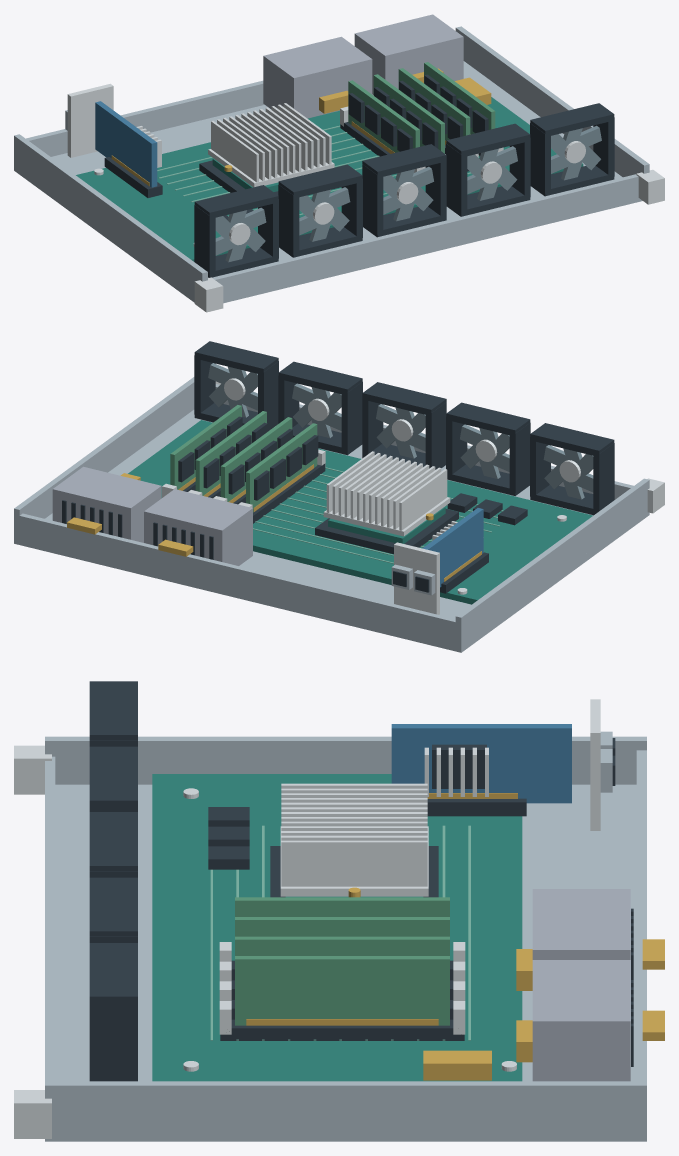
Rendered from server-internal.glb.
3 renders of one model, top to bottom at view 1: azimuth 30°, elevation 25°; view 2: azimuth 150°, elevation 25°; view 3: azimuth 270°, elevation 25°, orthographic. The views are drawn at different scales.
Parts seen in each view (by area): view 1: chassis_Chassis_silver, fans_Chips_and_sockets, psu_Power_supply_steel, motherboard_Motherboard_teal, fans_Fan_blades, cpu_Heat_sink_aluminum, memory_Memory_green, memory_Chips_and_sockets, nic_Network_blue_PCB, nic_Heat_sink_aluminum, motherboard_Chips_and_sockets, fans_Heat_sink_aluminum (+4 smaller); view 2: chassis_Chassis_silver, fans_Chips_and_sockets, motherboard_Motherboard_teal, psu_Power_supply_steel, fans_Fan_blades, cpu_Heat_sink_aluminum, memory_Memory_green, motherboard_Chips_and_sockets, memory_Chips_and_sockets, nic_Network_blue_PCB, nic_Heat_sink_aluminum, fans_Heat_sink_aluminum (+7 smaller); view 3: chassis_Chassis_silver, motherboard_Motherboard_teal, memory_Memory_green, fans_Chips_and_sockets, psu_Power_supply_steel, cpu_Heat_sink_aluminum, nic_Network_blue_PCB, motherboard_Chips_and_sockets, chassis_Heat_sink_aluminum, psu_Contact_gold, nic_Heat_sink_aluminum, memory_Heat_sink_aluminum (+5 smaller).
Boxes of the visible parts, x1,y1,x2,y2 form: chassis_Chassis_silver: (14,26,649,303); fans_Chips_and_sockets: (194,103,614,277); psu_Power_supply_steel: (263,14,463,118); motherboard_Motherboard_teal: (76,97,583,261); fans_Fan_blades: (215,125,601,262); cpu_Heat_sink_aluminum: (208,103,334,187); memory_Memory_green: (348,62,495,153); memory_Chips_and_sockets: (348,74,488,151); nic_Network_blue_PCB: (95,101,157,187); nic_Heat_sink_aluminum: (67,83,161,167); motherboard_Chips_and_sockets: (104,122,480,219); fans_Heat_sink_aluminum: (229,141,585,245); chassis_Chassis_silver: (14,377,649,652); fans_Chips_and_sockets: (194,341,614,515); motherboard_Motherboard_teal: (128,420,592,604); psu_Power_supply_steel: (52,466,252,565); fans_Fan_blades: (208,363,593,499); cpu_Heat_sink_aluminum: (323,451,450,536); memory_Memory_green: (170,405,317,512); motherboard_Chips_and_sockets: (183,463,527,593); memory_Chips_and_sockets: (178,416,318,500); nic_Network_blue_PCB: (422,508,483,587); nic_Heat_sink_aluminum: (394,521,457,614); fans_Heat_sink_aluminum: (224,378,580,482); chassis_Chassis_silver: (45,736,646,1141); motherboard_Motherboard_teal: (152,774,522,1081); memory_Memory_green: (235,897,449,1025); fans_Chips_and_sockets: (89,681,137,1081); psu_Power_supply_steel: (532,889,630,1081); cpu_Heat_sink_aluminum: (280,783,428,896); nic_Network_blue_PCB: (391,724,571,803); motherboard_Chips_and_sockets: (208,798,526,1040); chassis_Heat_sink_aluminum: (14,745,51,1138); psu_Contact_gold: (516,939,664,1062); nic_Heat_sink_aluminum: (424,699,600,830); memory_Heat_sink_aluminum: (219,942,465,1034).
Bounding box in the file's own units: 4.92 × 0.8225 × 3.79.
